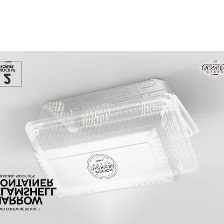plastic_box: (16, 71, 206, 204)
